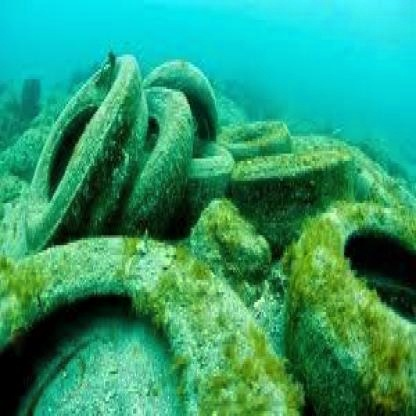tire: (1, 242, 298, 416), (267, 181, 416, 416), (22, 49, 144, 242), (222, 146, 362, 223), (127, 84, 188, 235), (144, 52, 225, 149), (212, 101, 297, 161), (174, 124, 228, 203)
